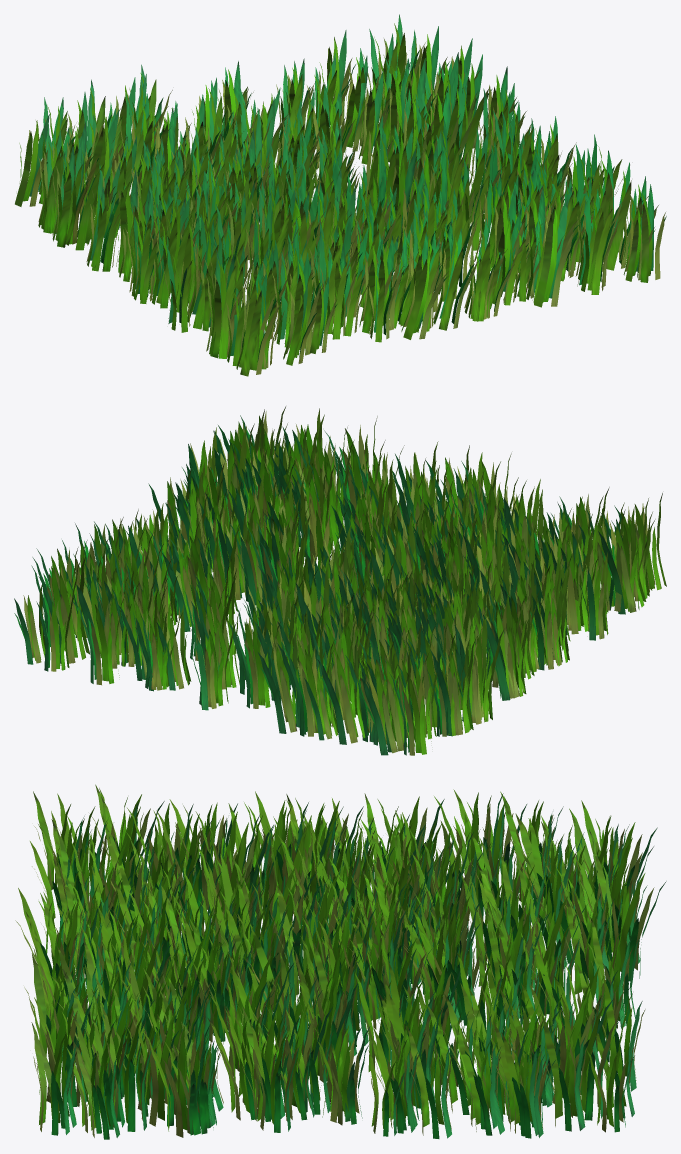
Rendered from Grass2.fbx.
The picture shows the model from 3 angles, top to bottom: view 1: azimuth 30°, elevation 25°; view 2: azimuth 150°, elevation 25°; view 3: azimuth 270°, elevation 25°; orthographic projection. The views are drawn at different scales.
Visible parts, largest first — view 1: grass2; view 2: grass2; view 3: grass2.
Boxes of the visible parts, x1,y1,x2,y2 form: grass2: (15, 14, 666, 376); grass2: (14, 406, 666, 755); grass2: (15, 784, 666, 1139).
Bounding box in the file's own units: 10.75 × 2.3 × 11.42.
